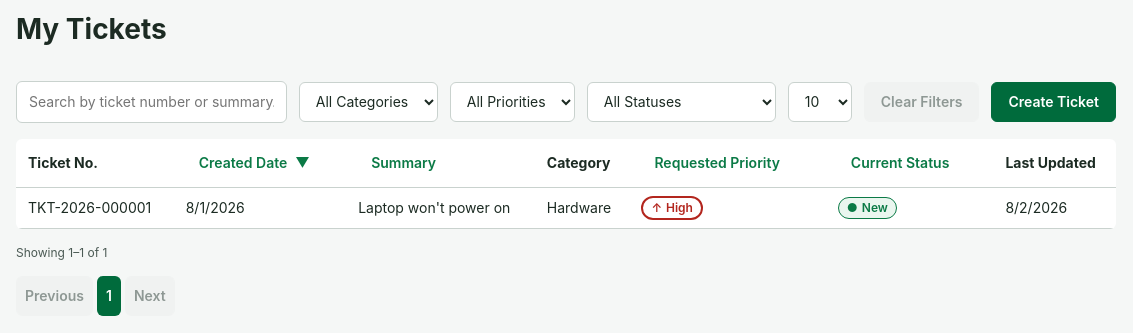
Test case: MyTickets › disables Clear Filters with no active filter and enables it once one is applied
The image size is (1133, 333).
Check: the button "Clear Filters" is disabled, box [864,82,979,122]
Select "High" in the dropdown named "Requested Priority" at (512, 102), box [450,82,575,122]
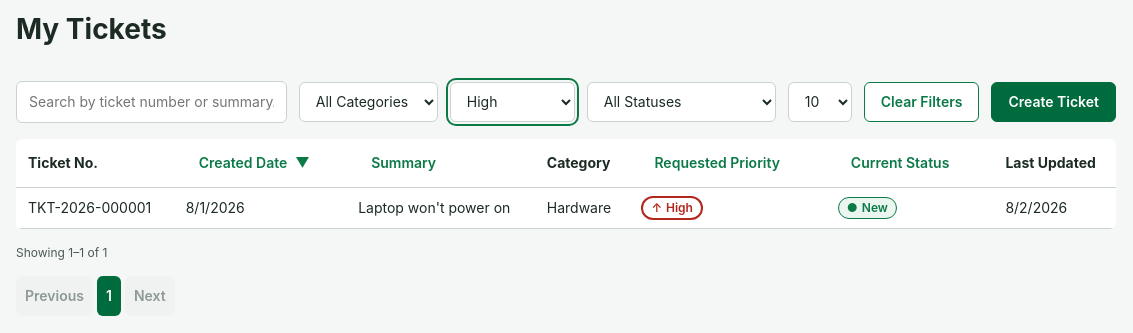
Check: the button "Clear Filters" is enabled, box [864,82,979,122]
